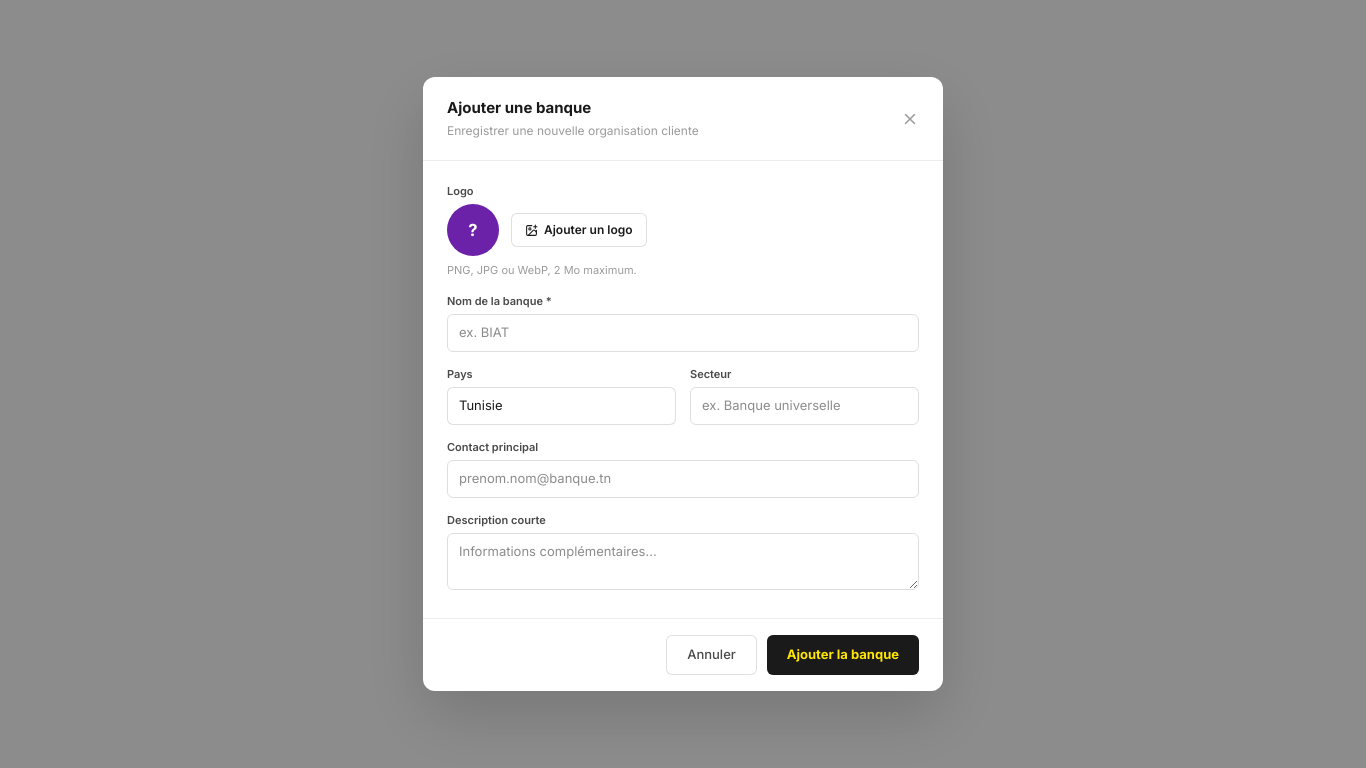
Test case: BankModal -- validation à la soumission › bloque la soumission d'un formulaire vide et affiche l'erreur sous le champ Nom
This screenshot has width=1366, height=768.
Click the button "Ajouter la banque".
click(843, 655)  # box left=767, top=635, right=919, bottom=675
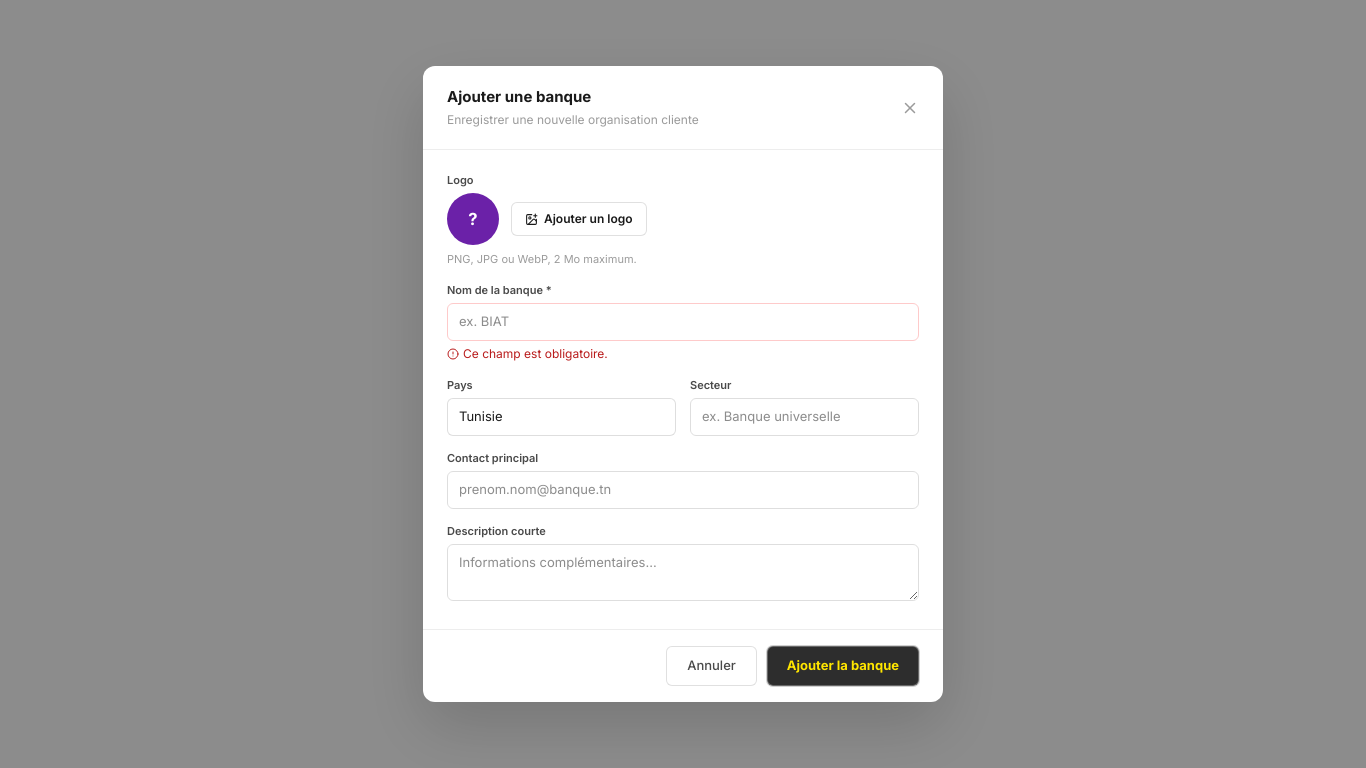
Result: the text "Ce champ est obligatoire." is shown at left=447, top=346, right=608, bottom=361
